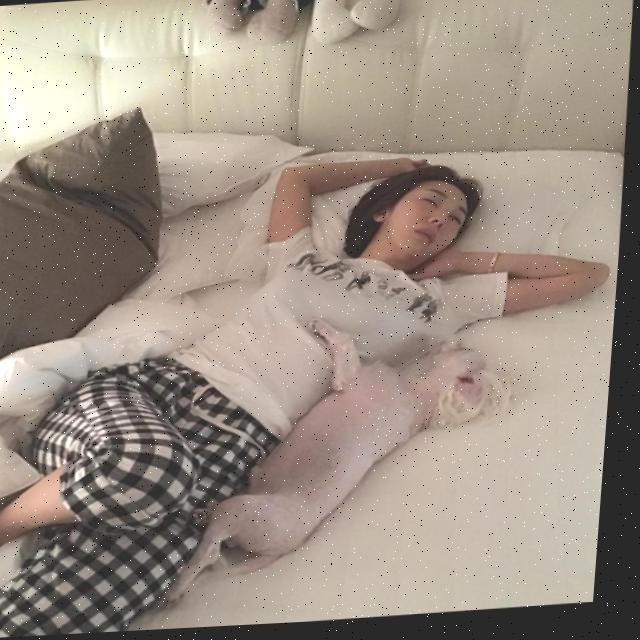sleeping-person: (0, 135, 631, 640)
